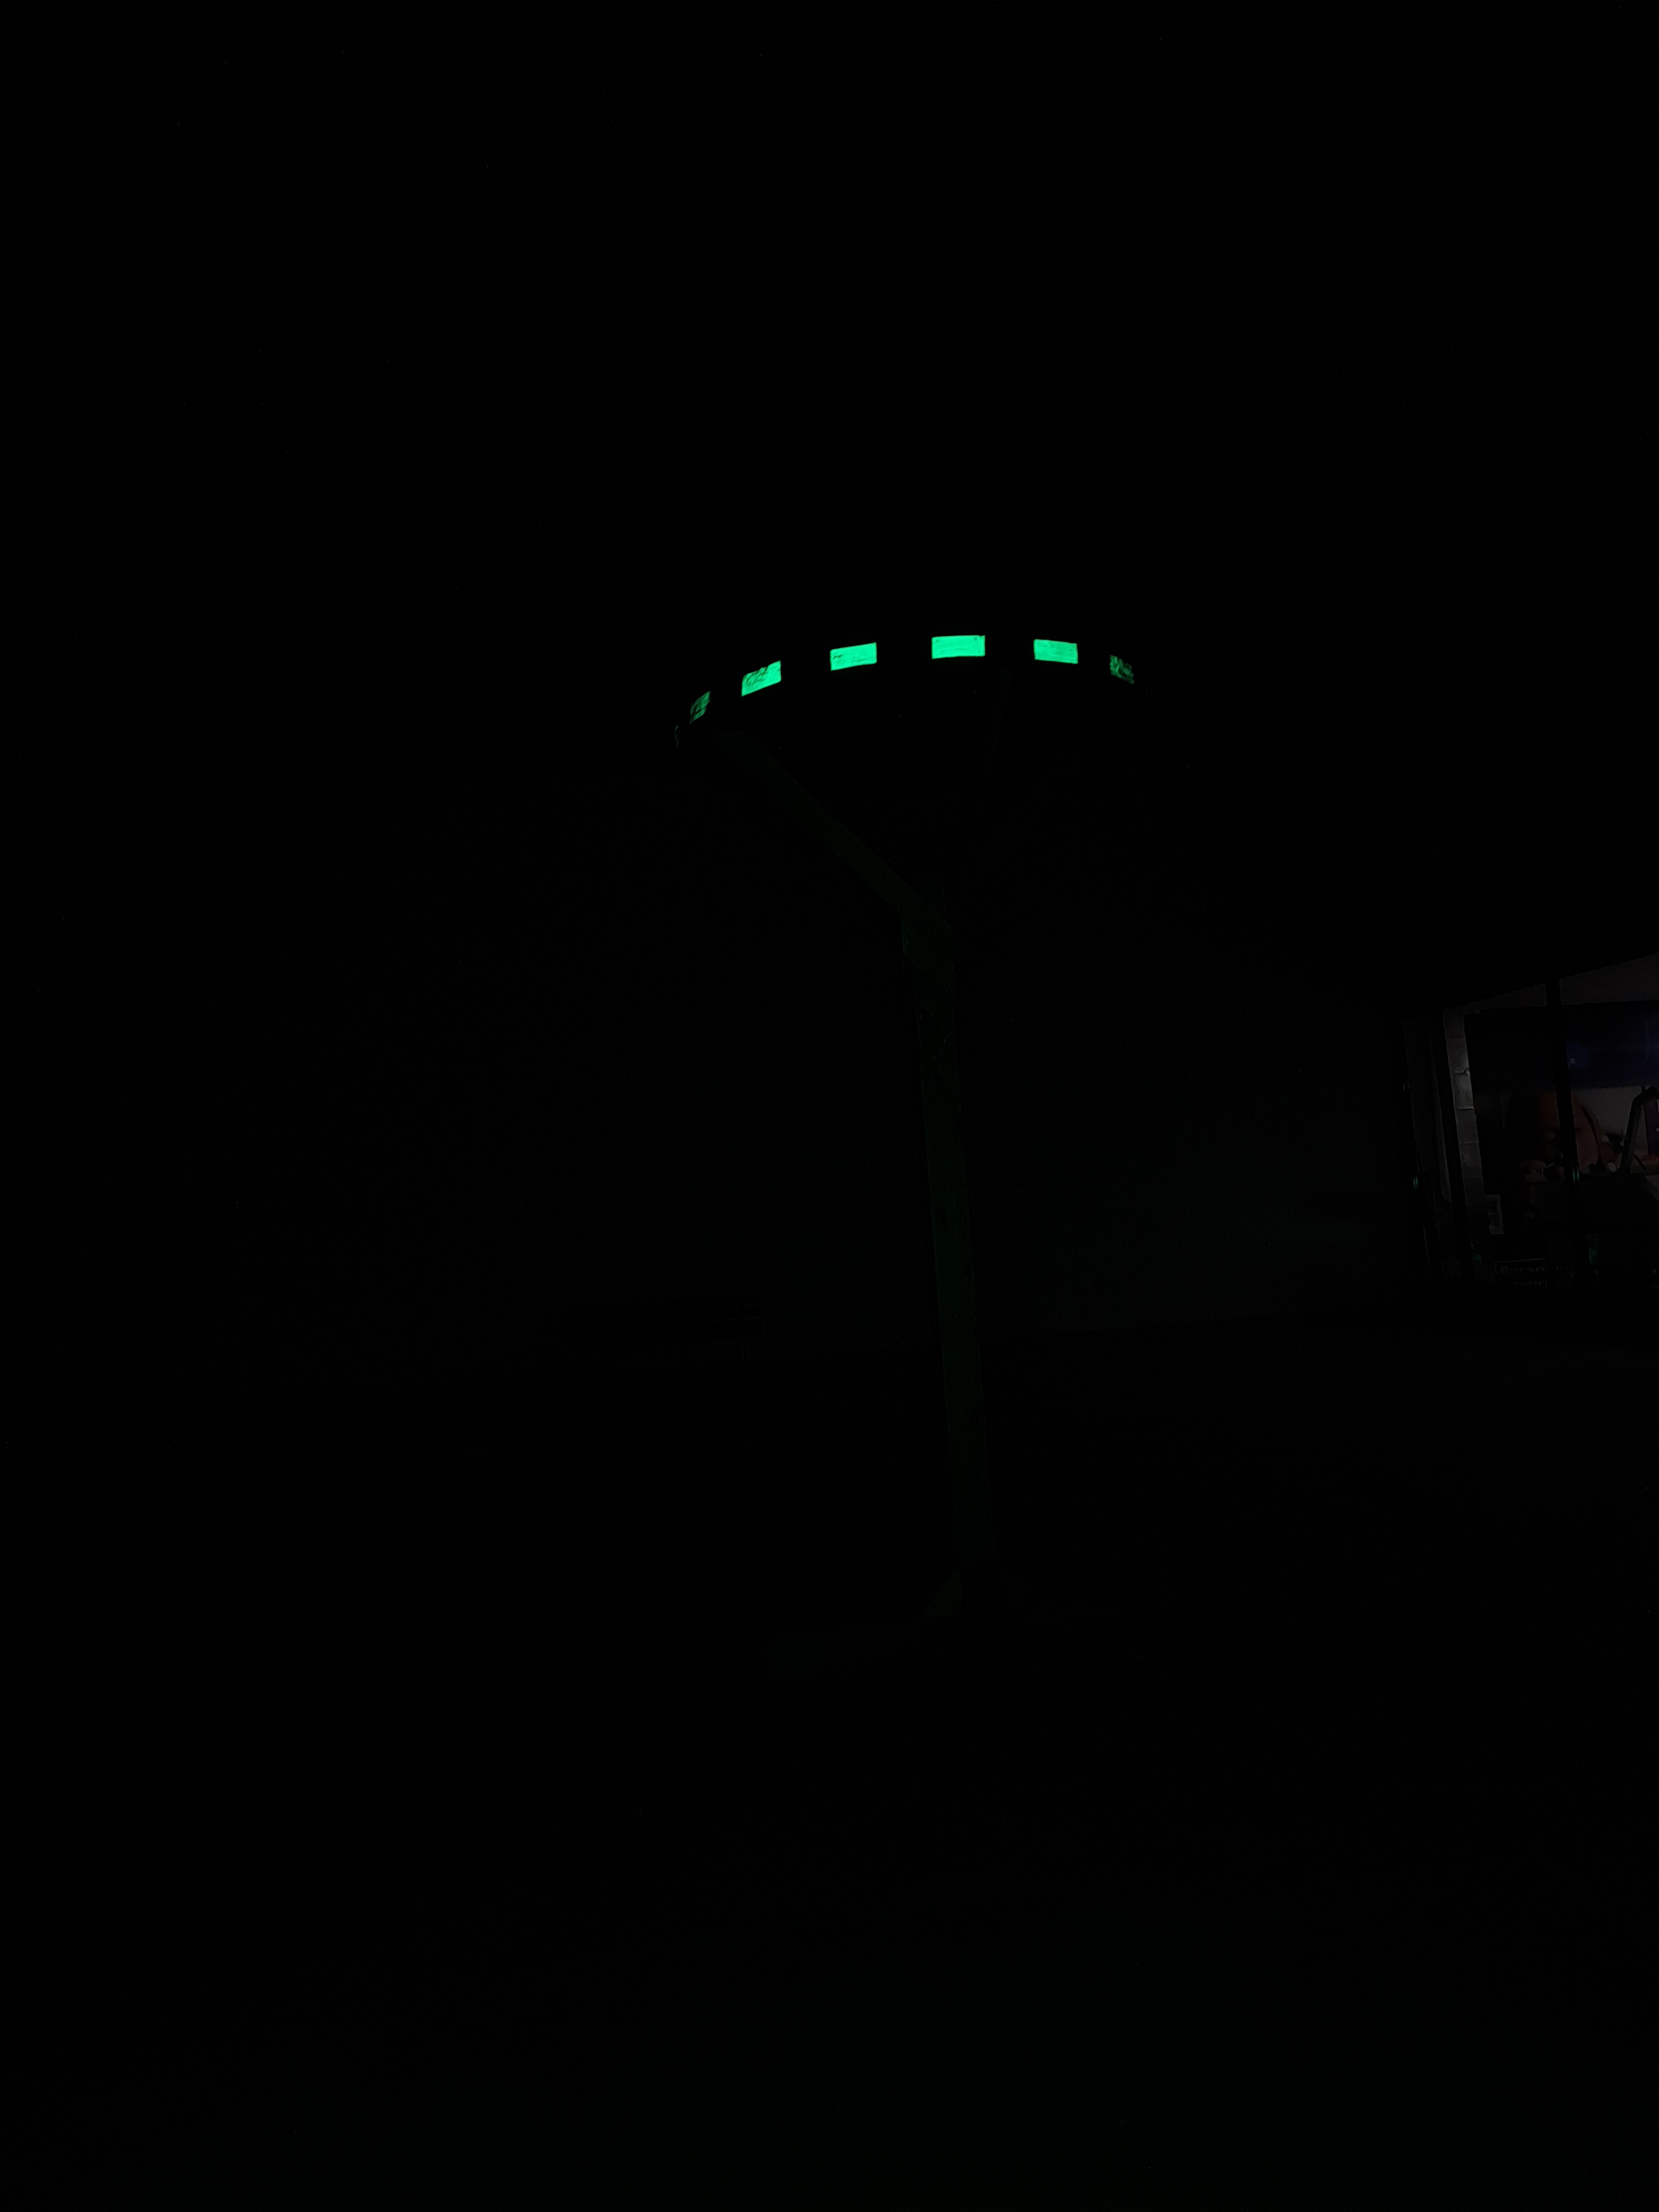hoop: (667, 599, 1173, 735)
